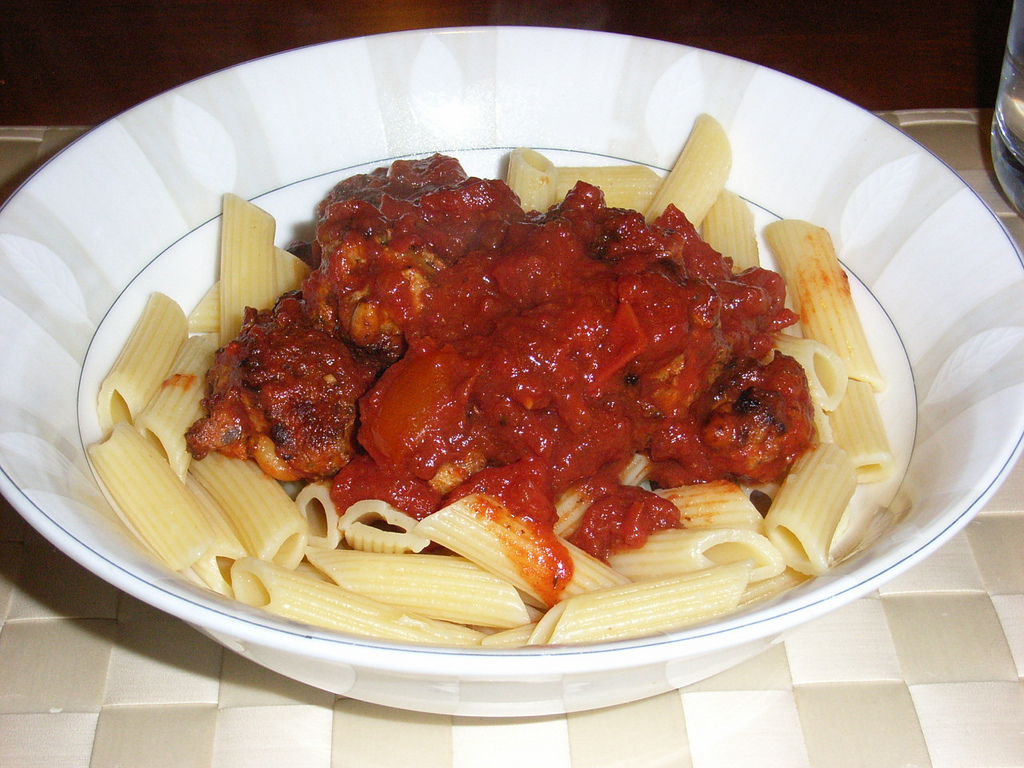plain spaghetti: (84, 99, 909, 662)
